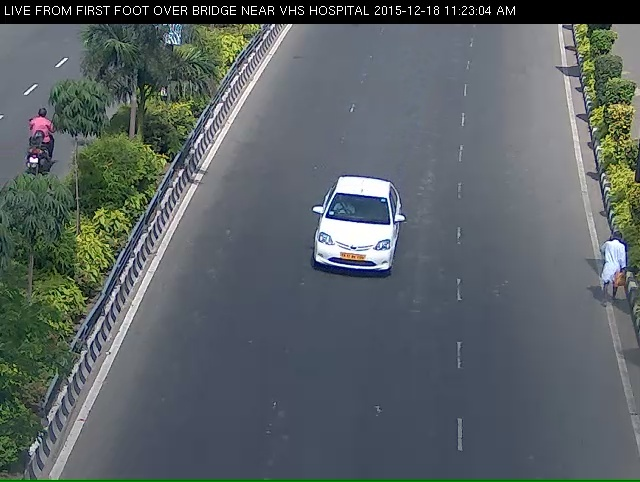Car: (292, 191, 402, 313)
